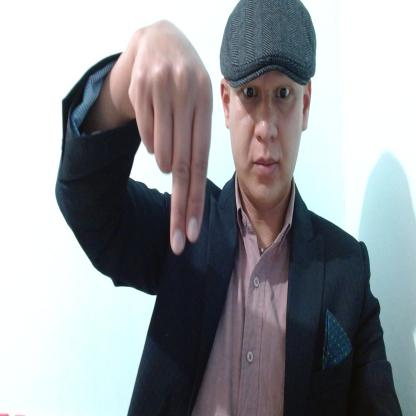N: (127, 22, 216, 254)
